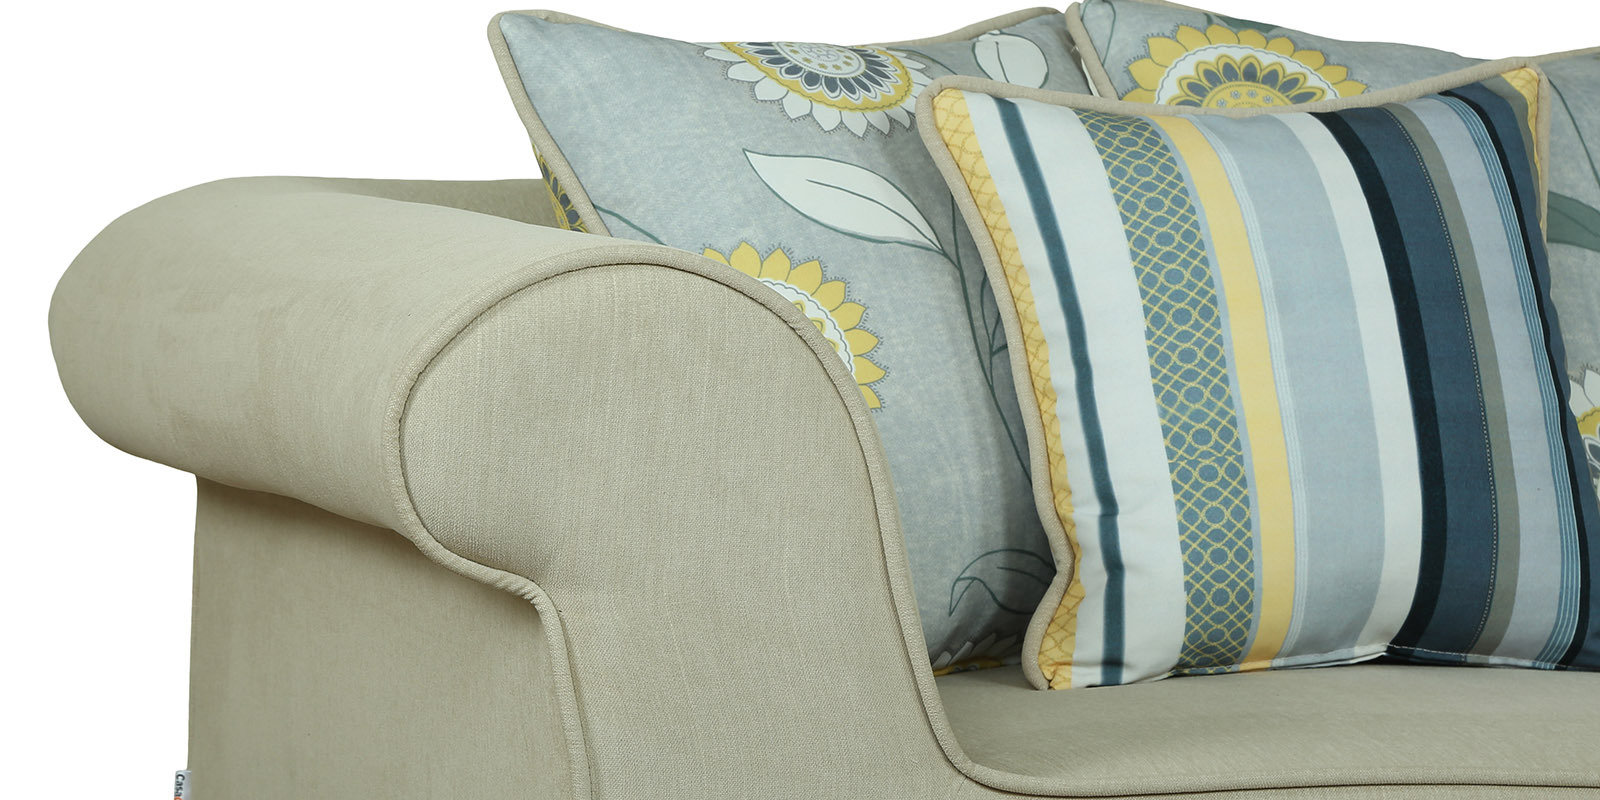Cielo Three Seater Sofa in Beige Colour by CasaCraft: (38, 80, 1574, 800)
